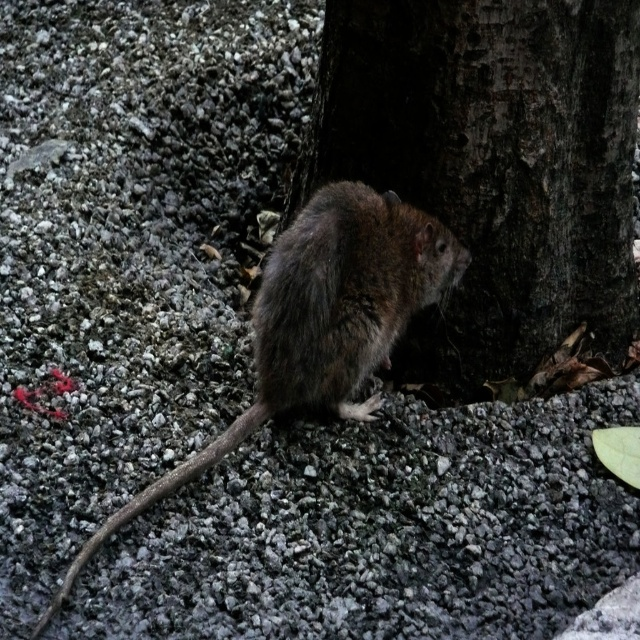Mouse: (5, 174, 460, 591)
